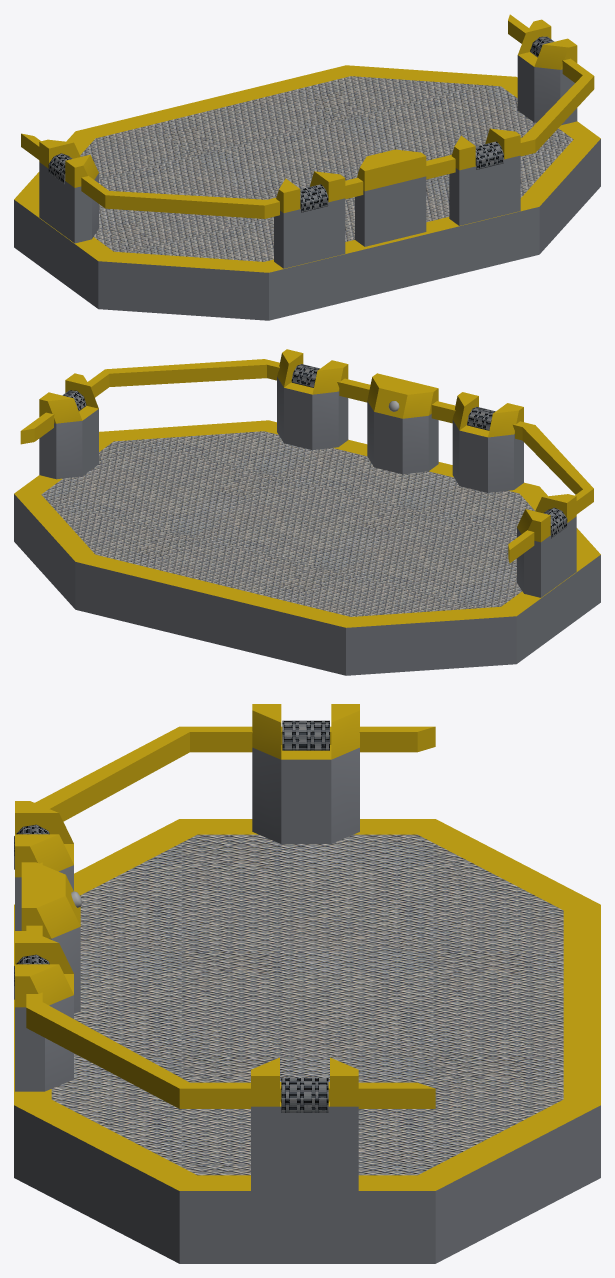
The model's file is Env_Elevator.FBX.
3 views of the same model, one above another, from view 1: azimuth 30°, elevation 25°; view 2: azimuth 150°, elevation 25°; view 3: azimuth 270°, elevation 25° (orthographic). The views are drawn at different scales.
Visible parts, largest first — view 1: Env_Elevator_mesh; view 2: Env_Elevator_mesh; view 3: Env_Elevator_mesh.
Part boxes in pixels (x1,y1,x2,y2): Env_Elevator_mesh: (14, 14, 600, 320); Env_Elevator_mesh: (14, 349, 600, 675); Env_Elevator_mesh: (14, 704, 600, 1263).
Size of what is drawn, in the model's own units: 701 by 165 by 466.
Materials: 4 (4 with a texture image).
